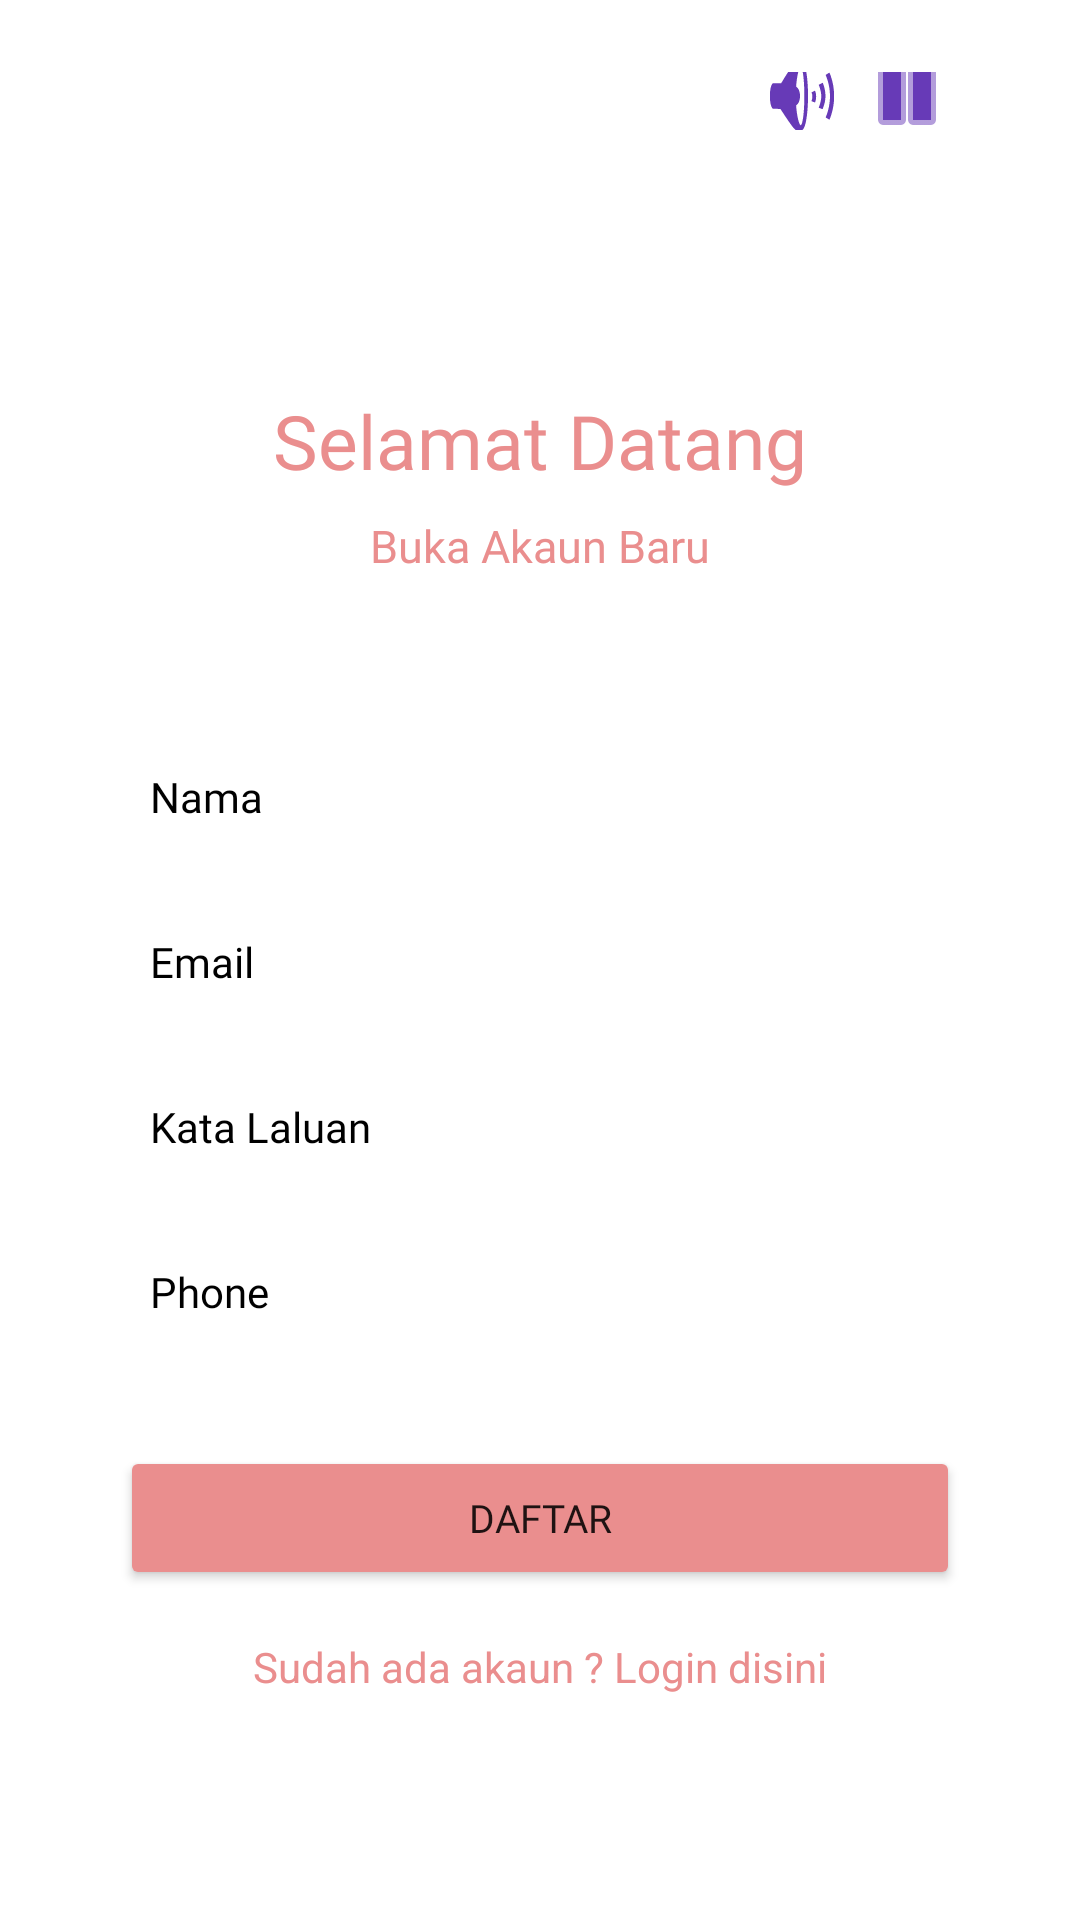

Screen size 1080px×1920px. Icon name, then its box in pixels as region(x1, y1, x2, y2):
lock silent mode off: region(770, 72, 834, 130)
pause: region(878, 72, 936, 125)
